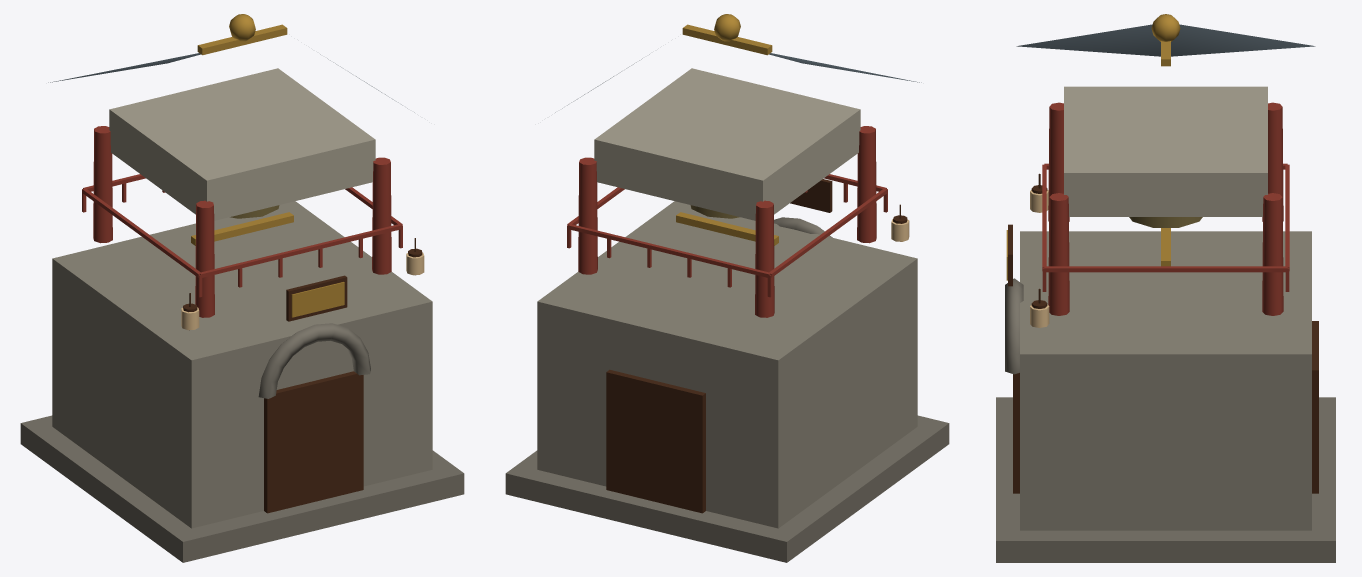
Rendered from tang-drum-tower.glb.
The picture shows the model from 3 angles, left to right: view 1: azimuth 30°, elevation 25°; view 2: azimuth 150°, elevation 25°; view 3: azimuth 270°, elevation 25°; orthographic projection. The views are drawn at different scales.
Visible parts, largest first — view 1: tang-drum-tower; view 2: tang-drum-tower; view 3: tang-drum-tower.
Part boxes in pixels (box(x1,y1,x2,y2)): tang-drum-tower: box(20, 14, 464, 562); tang-drum-tower: box(505, 14, 949, 562); tang-drum-tower: box(996, 14, 1335, 562).
Size of the model in its own units: 7.49 by 10.8 by 7.49.
